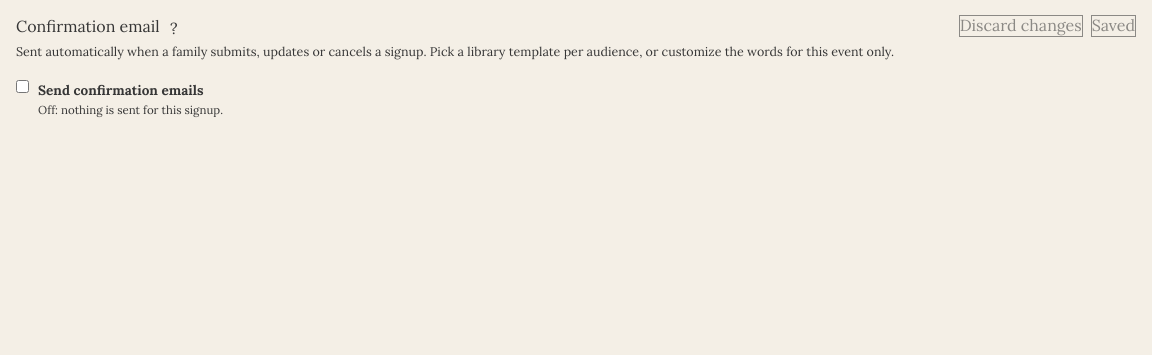
Test: ConfirmationPanel › ConfirmationBlock_IsOffByDefault_AndShowsFamilyAndLeaderPanelsWhenOn
Expected: the text "Family receipt" is not shown
Click the checkbox labelled "Send confirmation emails": (22, 86) [16,80,29,93]
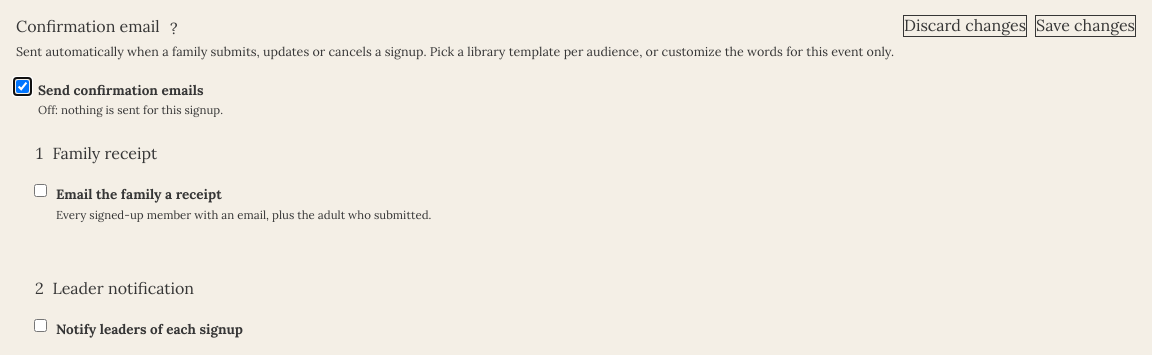
Result: the heading "Family receipt" is shown at [52,141,157,165]
Result: the heading "Leader notification" is shown at [52,276,194,300]
